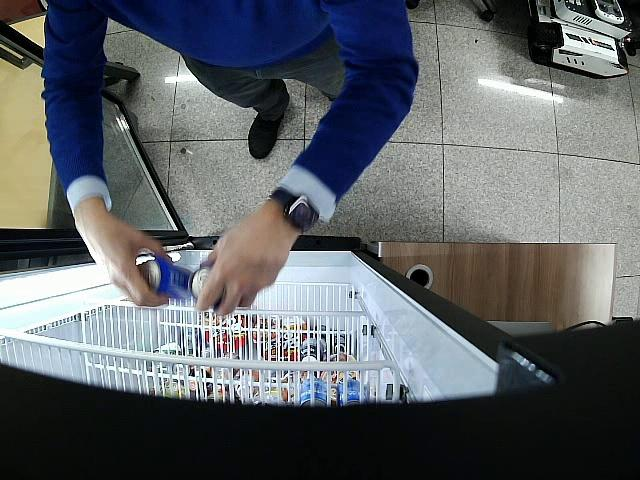00_hand: (79, 199, 170, 307), (196, 214, 292, 316)
13_pocariSweat: (140, 260, 193, 302)
